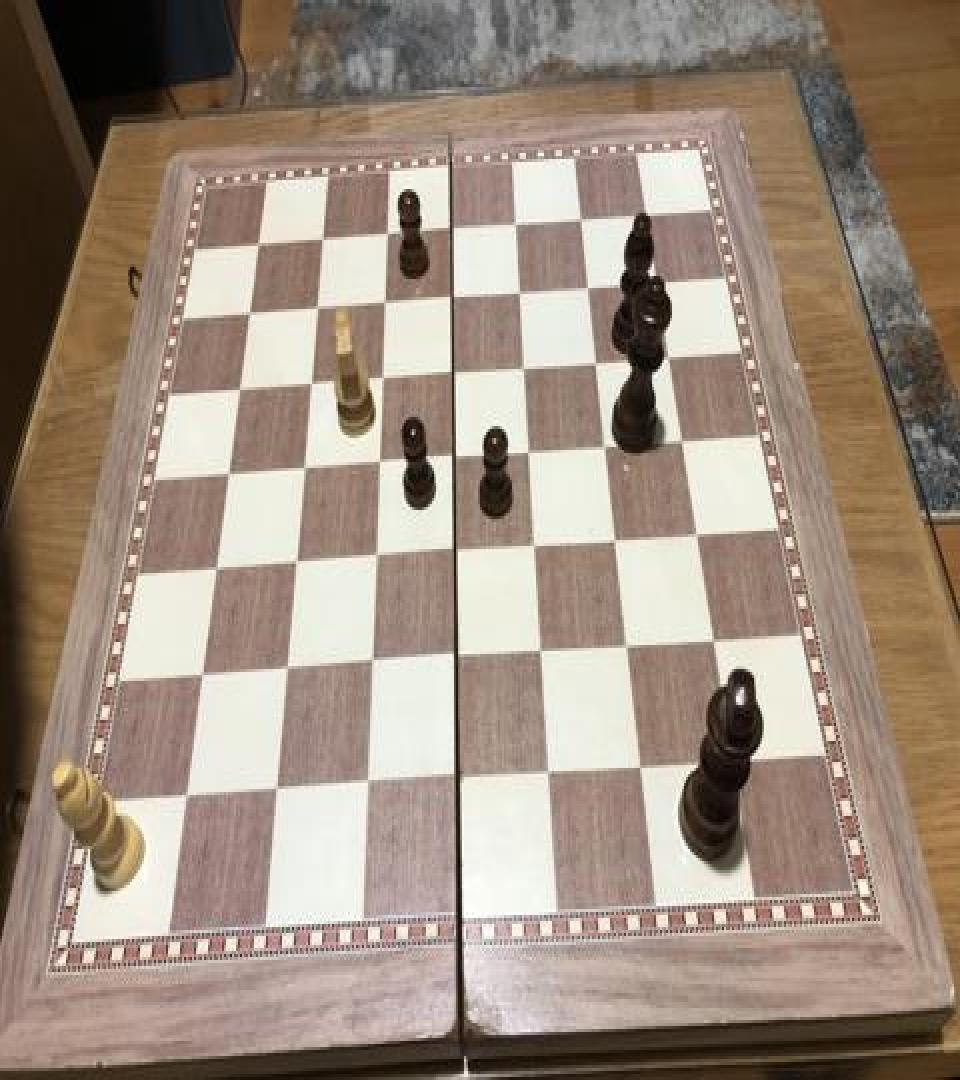xcorner: (617, 625, 641, 662), (531, 631, 555, 668), (445, 637, 469, 674), (722, 739, 746, 776), (634, 194, 658, 230), (570, 198, 594, 234), (505, 202, 529, 238), (440, 207, 464, 243), (376, 212, 400, 248), (311, 216, 335, 252), (247, 220, 271, 256), (645, 261, 669, 297), (577, 267, 601, 303), (509, 272, 533, 308), (441, 276, 465, 312), (373, 280, 397, 316), (305, 285, 329, 321), (237, 290, 261, 326), (657, 336, 681, 372), (585, 342, 609, 378), (514, 346, 538, 382), (442, 351, 466, 387), (370, 356, 394, 392), (227, 366, 251, 402), (671, 420, 695, 456), (595, 424, 619, 460), (443, 435, 467, 471), (367, 441, 391, 477), (216, 452, 240, 488), (686, 513, 710, 549), (605, 519, 629, 555), (525, 525, 549, 561), (444, 530, 468, 566), (364, 536, 388, 572), (283, 542, 307, 578), (203, 546, 227, 582), (703, 620, 727, 656), (360, 642, 384, 678), (274, 648, 298, 684), (189, 654, 213, 690), (630, 746, 654, 782), (538, 753, 562, 789), (447, 759, 471, 795), (355, 765, 379, 801), (264, 771, 288, 807), (172, 777, 196, 813), (299, 362, 323, 397), (519, 431, 543, 466), (292, 446, 316, 481)
